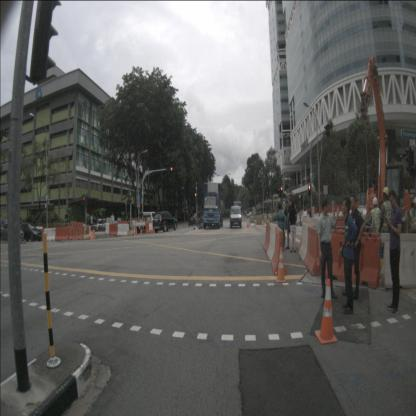barrier: (263, 221, 287, 275), (304, 226, 322, 276), (298, 222, 310, 262), (54, 227, 69, 242), (69, 225, 84, 240), (43, 227, 56, 242), (116, 223, 130, 236), (108, 224, 118, 235)
cone: (314, 279, 337, 344), (275, 246, 287, 284), (145, 222, 155, 233), (92, 228, 96, 239), (132, 226, 136, 236), (90, 229, 93, 241), (140, 225, 142, 234), (247, 220, 249, 228)
